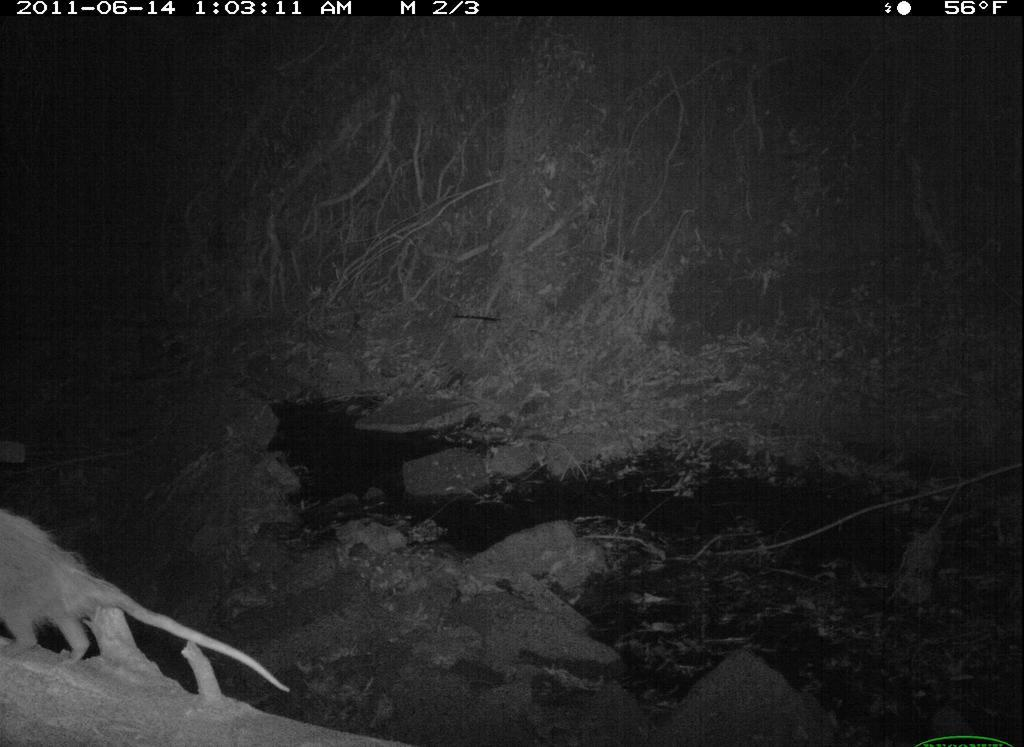opossum: (1, 498, 304, 715)
